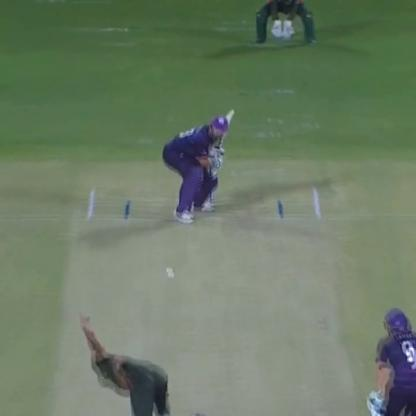ball: (165, 269, 179, 281), (164, 264, 176, 271)
bat: (212, 104, 238, 159)
pitch: (47, 186, 360, 416)
